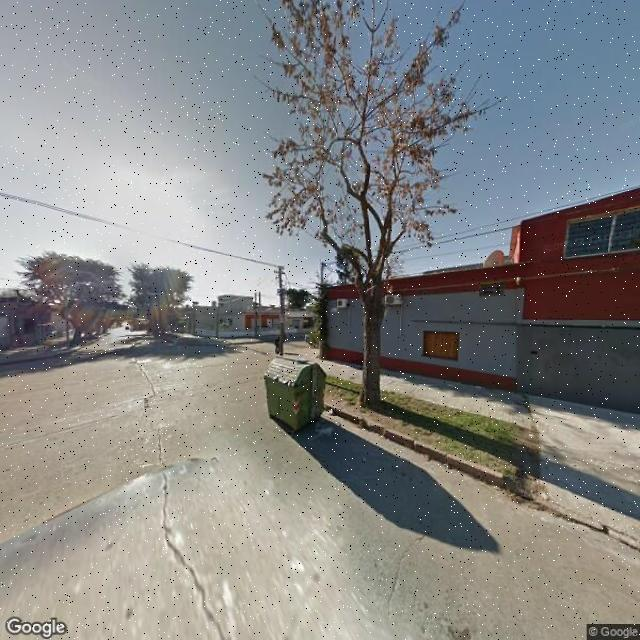garbage container: (256, 350, 340, 436)
